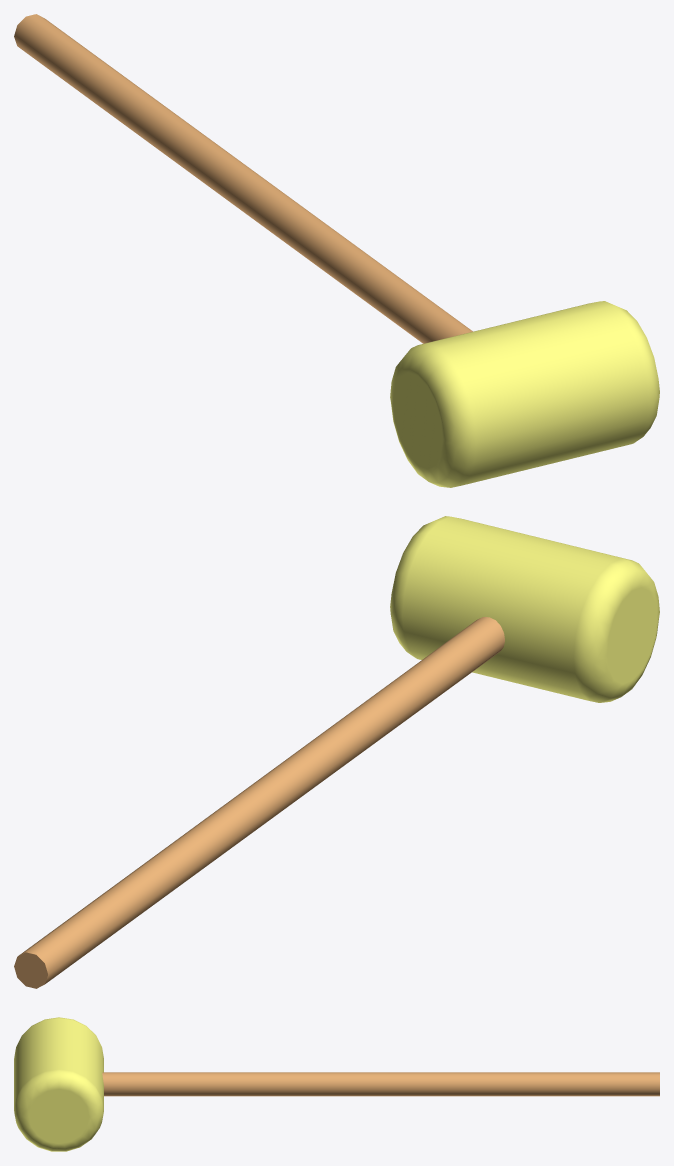
File: hammer.FBX
The picture shows the model from 3 angles, top to bottom: view 1: azimuth 30°, elevation 25°; view 2: azimuth 150°, elevation 25°; view 3: azimuth 270°, elevation 25°; orthographic projection. The views are drawn at different scales.
Visible parts, largest first — view 1: hammer; view 2: hammer; view 3: hammer.
Boxes of the visible parts, x1,y1,x2,y2 form: hammer: [14, 14, 659, 487]; hammer: [14, 516, 659, 988]; hammer: [14, 1017, 659, 1151].
Size of the model in its own units: 500 by 300 by 2150.
